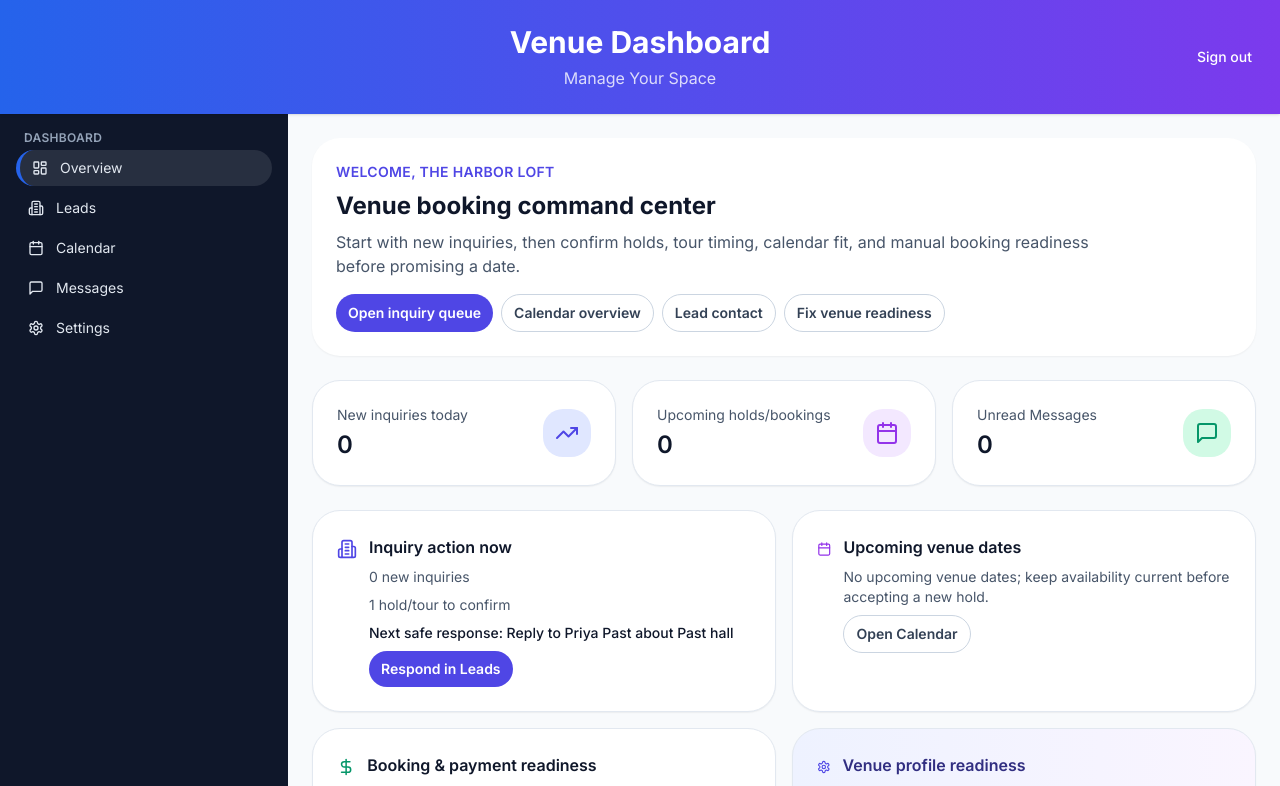
Scenario: VenueDashboard booking readiness workflow › shows an empty upcoming-date state instead of a stale past active venue date
Expected: the text "No upcoming venue dates; keep availability current before accepting a new hold" is shown, [844, 568, 1230, 604]
Click the button "Open Calendar": (907, 634) [844, 614, 971, 652]
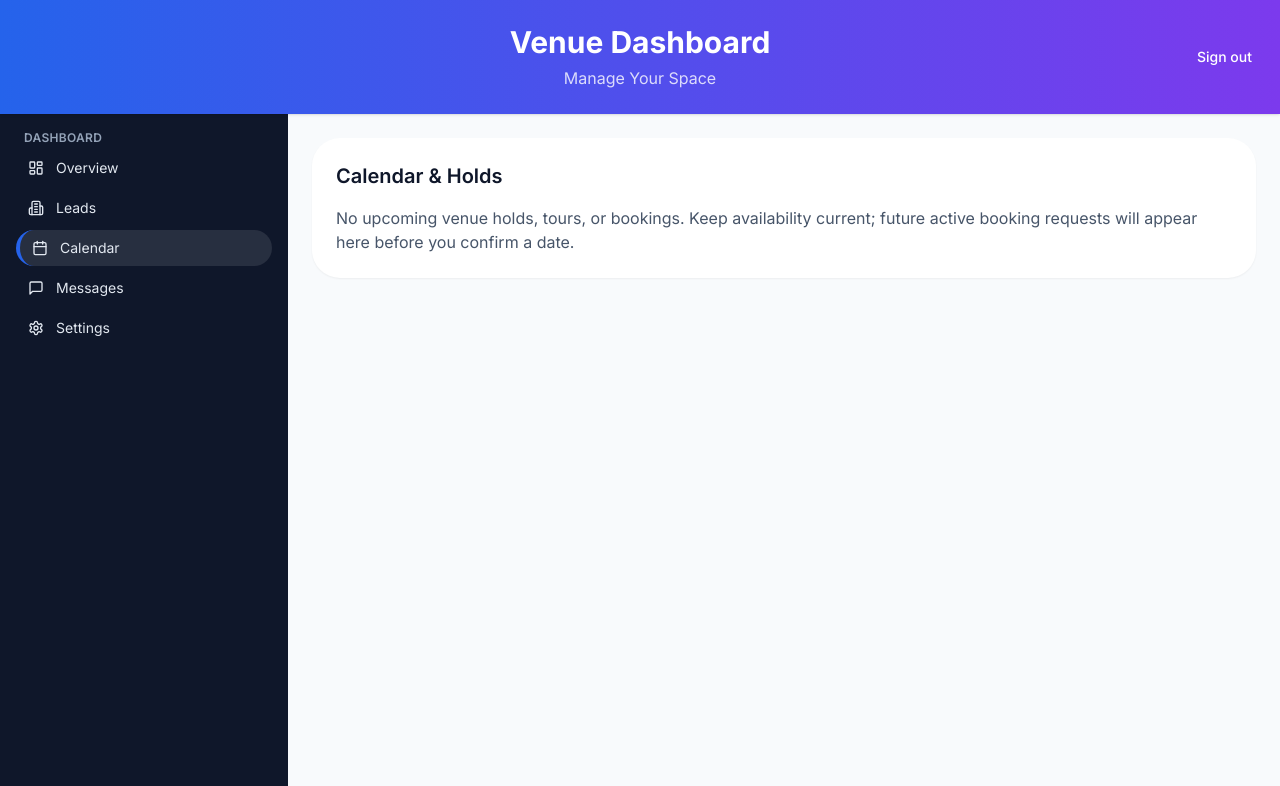
Expected: the heading "Calendar & Holds" is shown, [336, 164, 502, 188]
Expected: the text "No upcoming venue holds, tours, or bookings. Keep availability current" is shown, [336, 208, 1197, 252]
